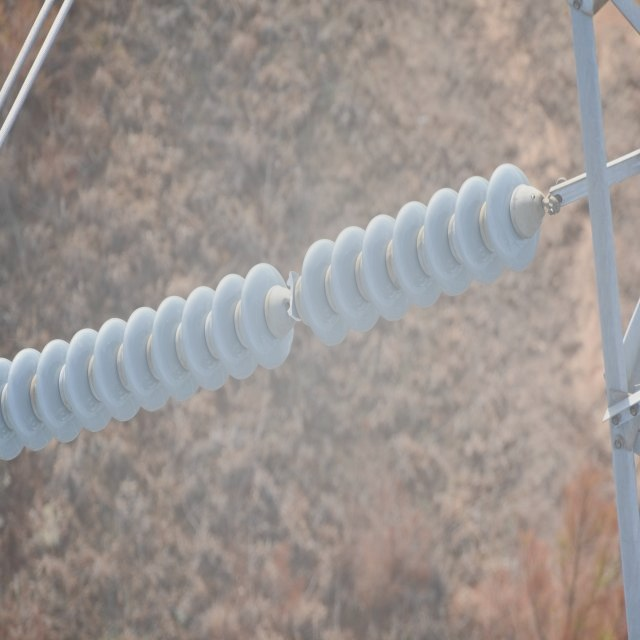broken: (284, 267, 306, 327)
insulator: (0, 165, 538, 459)
